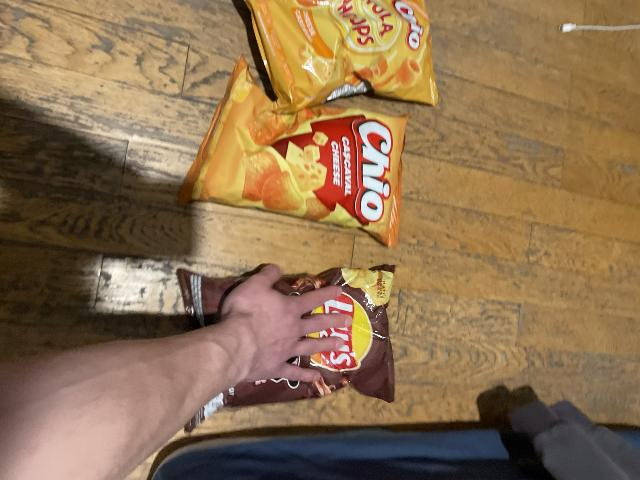Chio Cascaval 125g: (178, 60, 405, 245)
Chio Hula Hoops Cheese 70g: (242, 1, 436, 114)
Lays Beef Grilled Ribs 125g: (178, 262, 394, 419)
